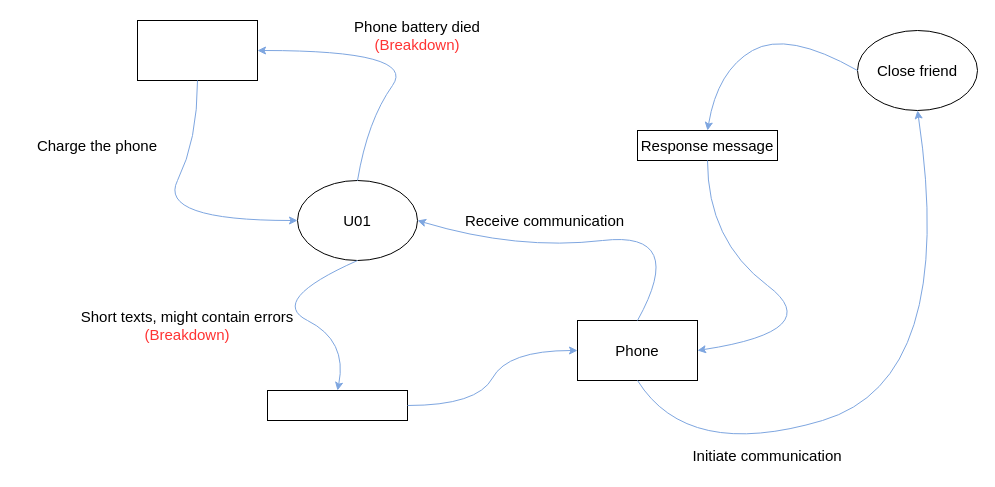
This 995x487 diagram has some shape labels left out. Each missing label, with the centre of its shape:
"Phone charger" belongs at (x=197, y=50).
"Text message" belongs at (x=337, y=405).
